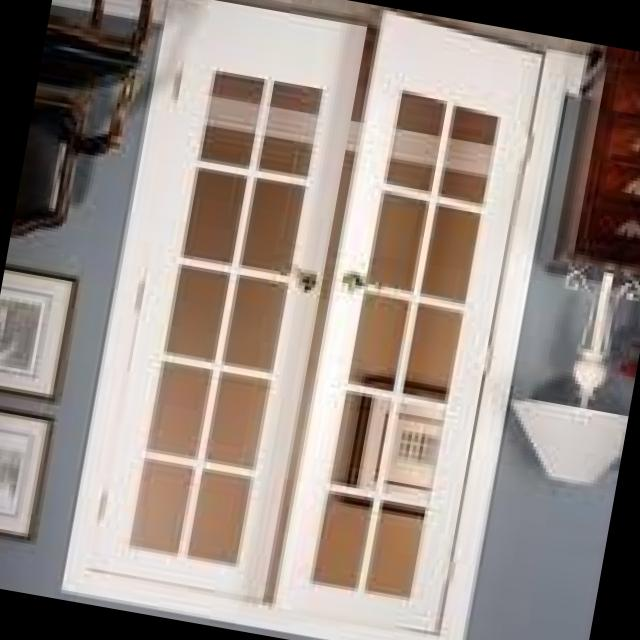Door: (84, 0, 553, 639)
